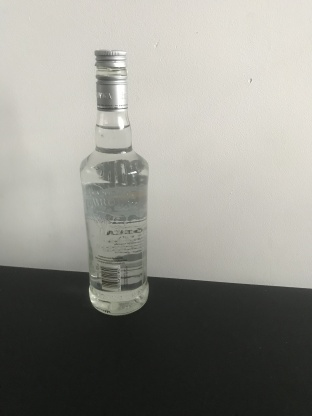nakretka: (93, 48, 129, 113)
